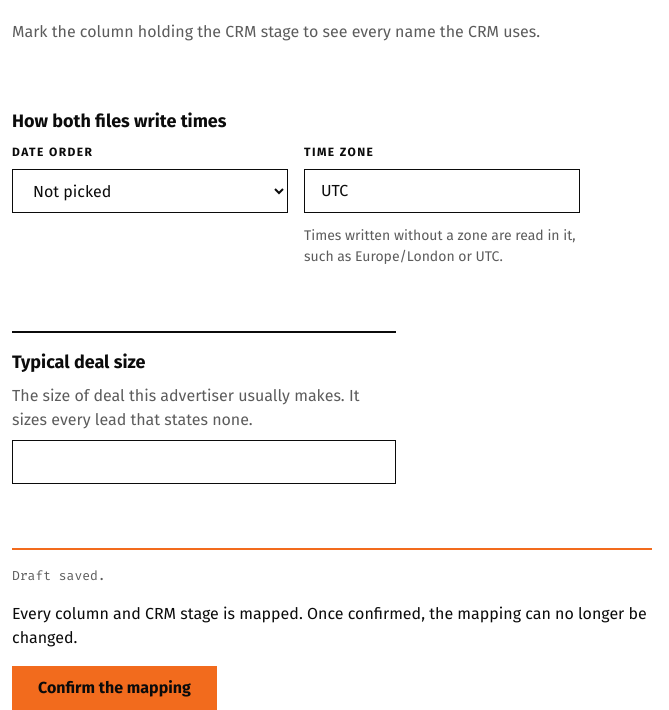
it: ReviewStep › shows why the service refused to confirm
The width and height of the screenshot is (669, 710).
(page scrolled)
Click the button "Confirm the mapping" at (114, 688), box [12,666,217,709]
(page scrolled)
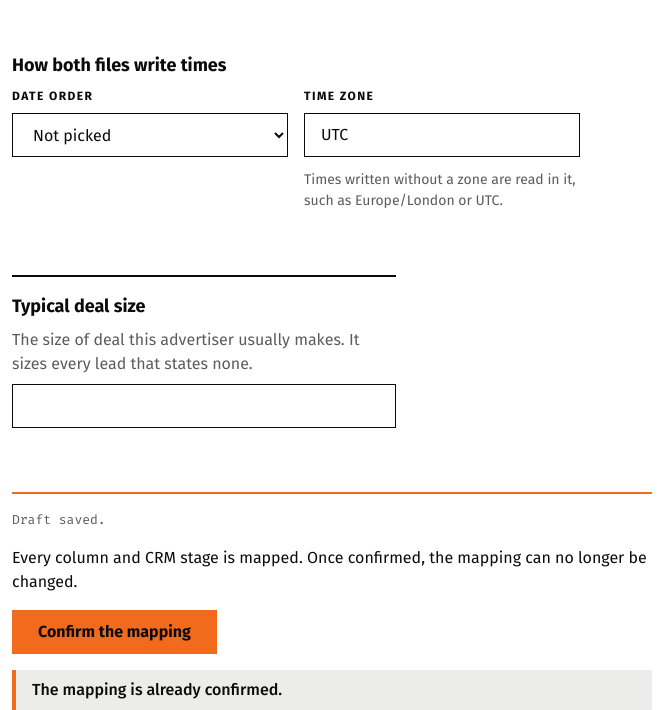
Expected: the message reads "The mapping is already confirmed.", [32,680,282,698]
